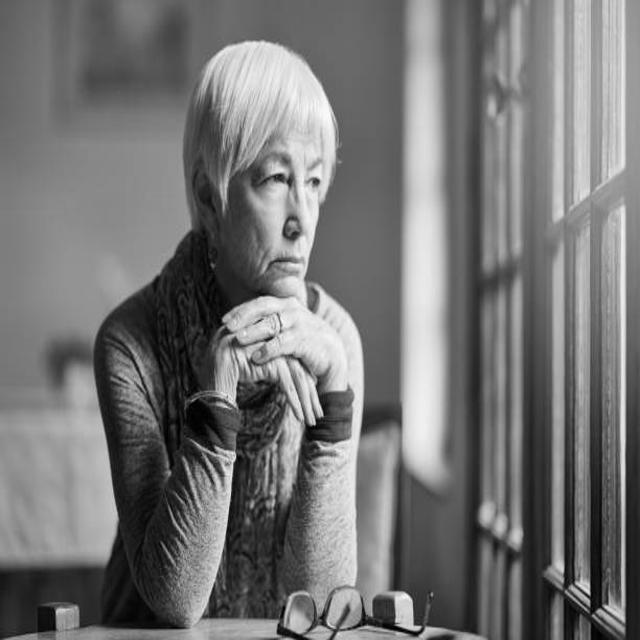Sadness: (232, 111, 328, 302)
